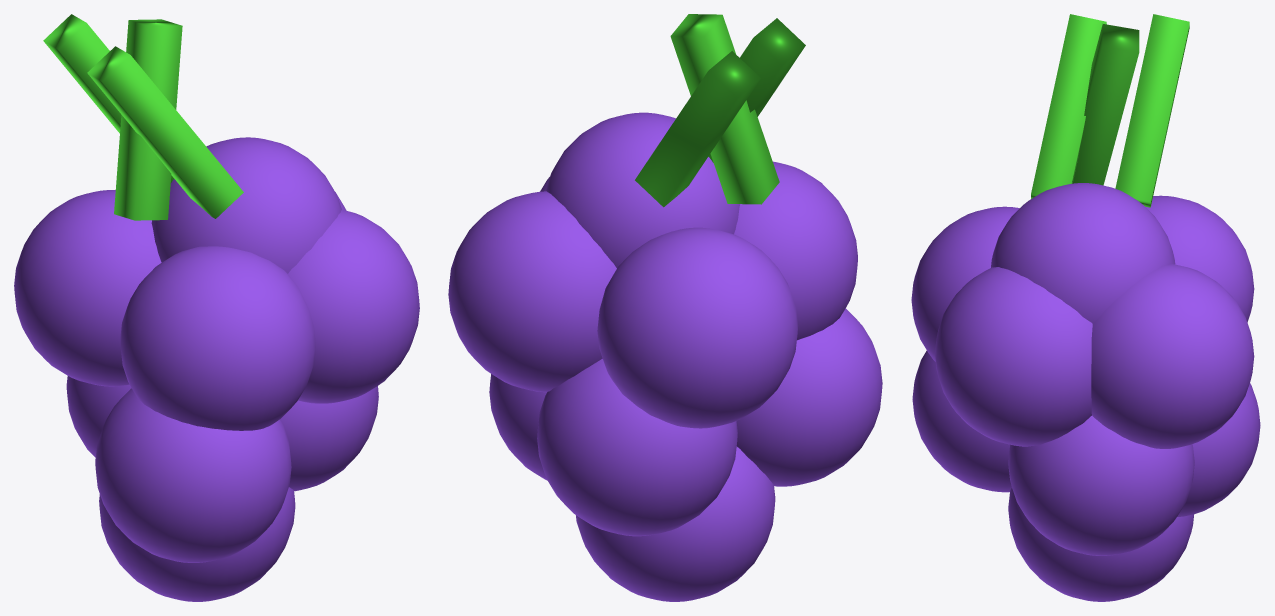
File: grape.fbx
3 renders of one model, left to right at view 1: azimuth 30°, elevation 25°; view 2: azimuth 150°, elevation 25°; view 3: azimuth 270°, elevation 25°, orthographic. The views are drawn at different scales.
Parts seen in each view (by area): view 1: Sphere.006, Sphere.002, Sphere.008, Sphere.005, Sphere.004, Cube.002, Sphere, Cube, Sphere.001, Cube.001, Sphere.003; view 2: Sphere.008, Sphere.007, Sphere.003, Sphere.002, Sphere.004, Sphere, Sphere.006, Cube.001, Cube, Sphere.001, Cube.002; view 3: Sphere.007, Sphere.005, Sphere.001, Sphere.004, Sphere, Cube.001, Sphere.006, Cube.002, Sphere.002, Sphere.008, Cube, Sphere.003.
Boxes of the visible parts, x1,y1,x2,y2 form: Sphere.006: (120,246,315,430); Sphere.002: (95,388,291,562); Sphere.008: (14,190,161,386); Sphere.005: (288,209,419,403); Sphere.004: (151,137,341,273); Cube.002: (87,46,243,218); Sphere: (99,487,295,601); Cube: (114,19,182,220); Sphere.001: (280,386,378,491); Cube.001: (43,14,173,182); Sphere.003: (66,376,131,457); Sphere.008: (597,227,798,428); Sphere.007: (448,191,616,392); Sphere.003: (537,359,737,536); Sphere.002: (736,308,882,486); Sphere.004: (545,112,739,268); Sphere: (576,446,775,601); Sphere.006: (734,161,857,340); Cube.001: (635,51,760,207); Cube: (670,14,779,204); Sphere.001: (489,374,547,480); Cube.002: (708,18,805,162); Sphere.007: (1091,264,1254,448); Sphere.005: (935,267,1092,446); Sphere.001: (1008,415,1194,555); Sphere.004: (991,183,1175,323); Sphere: (1008,488,1194,601); Cube.001: (1115,14,1189,207); Sphere.006: (911,206,1019,361); Cube.002: (1031,14,1106,198); Sphere.002: (912,350,1011,492); Sphere.008: (1145,195,1254,322); Cube: (1072,24,1139,185); Sphere.003: (1177,383,1260,516).
Size of the model in its own units: 372 by 647 by 374.
